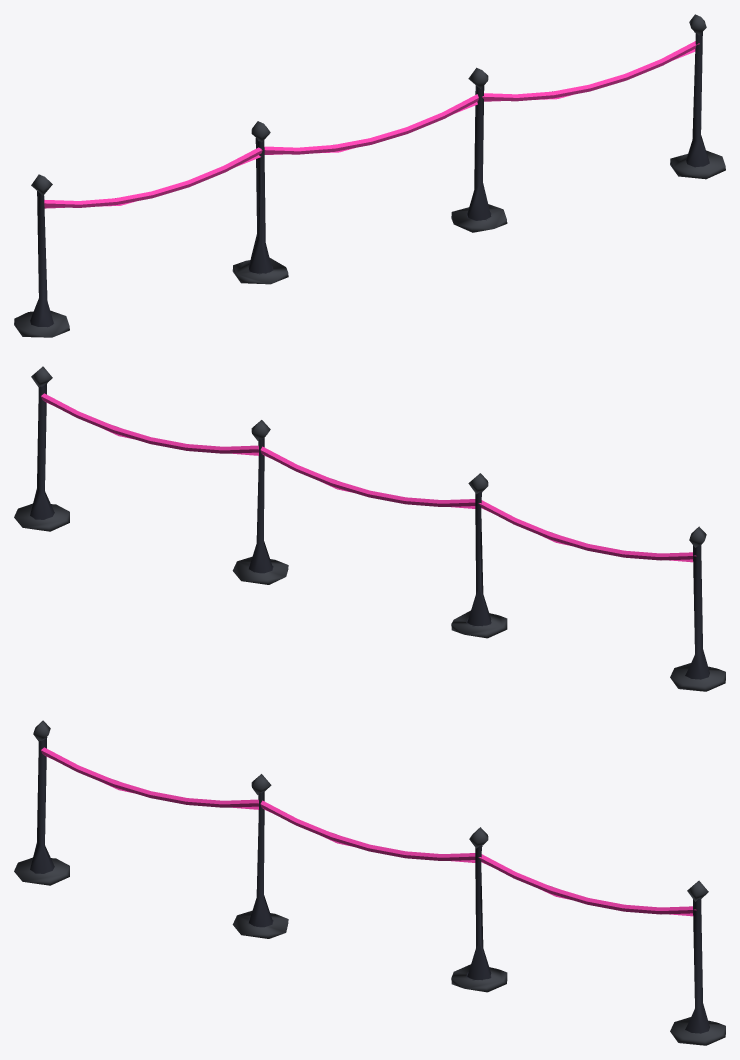
The model's file is lod_queue_rope_line.glb.
The picture shows the model from 3 angles, top to bottom: view 1: azimuth 30°, elevation 25°; view 2: azimuth 150°, elevation 25°; view 3: azimuth 330°, elevation 25°; orthographic projection.
Visible parts, largest first — view 1: queue_rope_line; view 2: queue_rope_line; view 3: queue_rope_line.
Boxes of the visible parts, <box> form: queue_rope_line: <box>14,14,725,337</box>; queue_rope_line: <box>14,366,725,691</box>; queue_rope_line: <box>14,720,725,1045</box>.
Size of the model in its own units: 4.83 by 1 by 0.3509.
